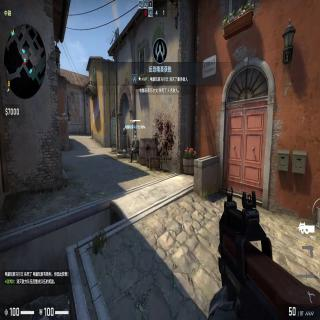CT-Body: (131, 134, 140, 164)
CT-Head: (133, 134, 137, 139)
